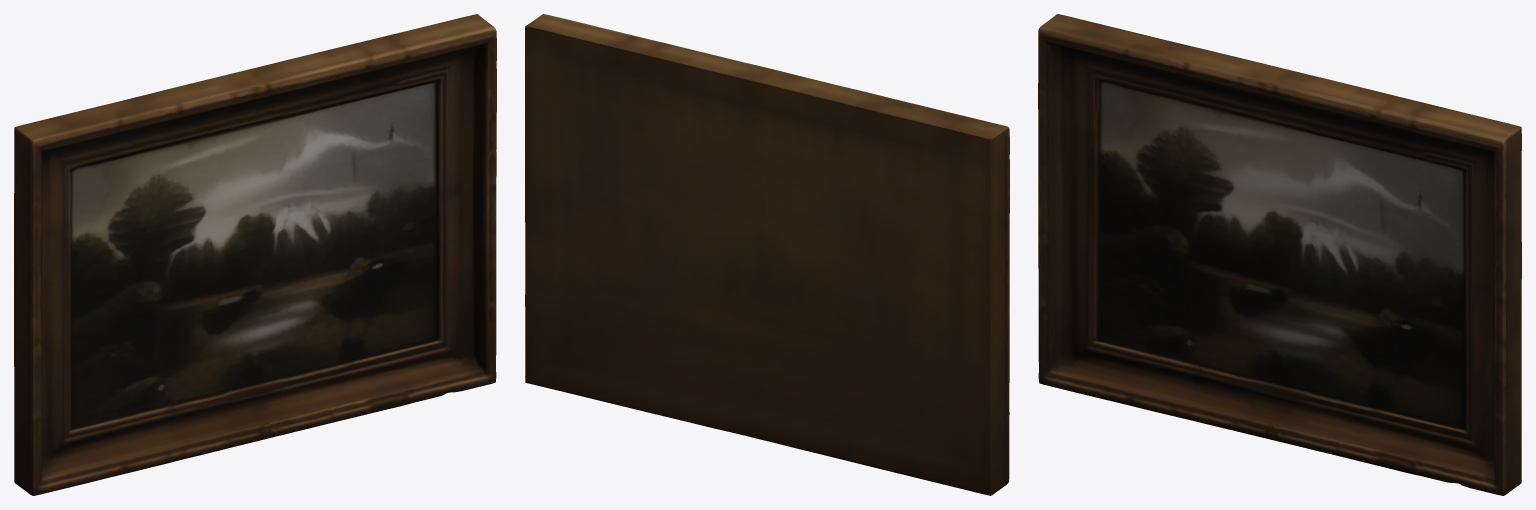
Rendered from landscape_painting.glb.
3 views of the same model, side by side, from view 1: azimuth 30°, elevation 25°; view 2: azimuth 150°, elevation 25°; view 3: azimuth 330°, elevation 25° (orthographic).
Visible parts, largest first — view 1: geometry_0; view 2: geometry_0; view 3: geometry_0.
Part boxes in pixels (left/top/right/bottom): geometry_0: left=14, top=14, right=496, bottom=495; geometry_0: left=525, top=14, right=1009, bottom=495; geometry_0: left=1038, top=14, right=1521, bottom=495.
Size of the model in its own units: 1 by 0.7338 by 0.0724.
Materials: 1 (1 with a texture image).
